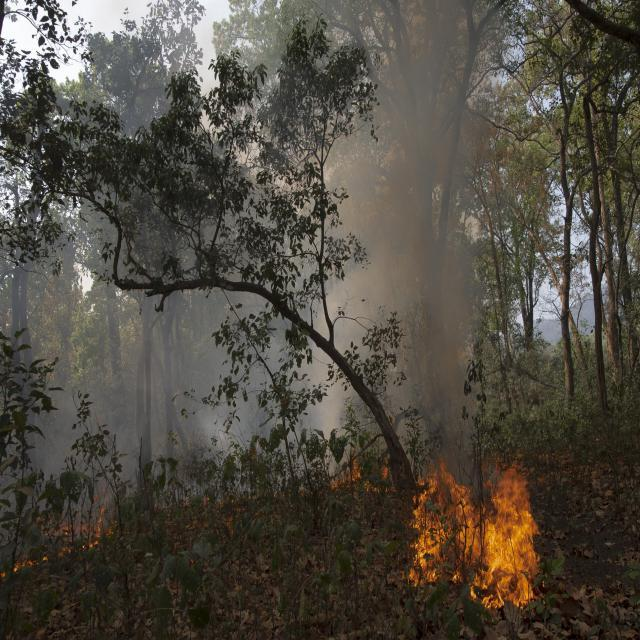Fire: (414, 446, 556, 620)
Smoke: (398, 0, 466, 409), (48, 296, 212, 448), (364, 148, 459, 306)
